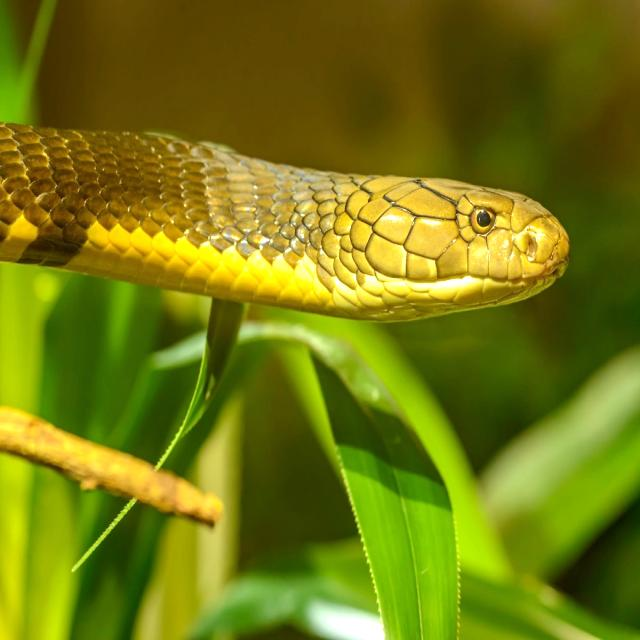Ophiophagus hannah: (0, 124, 569, 319)
snake: (0, 124, 569, 319)
